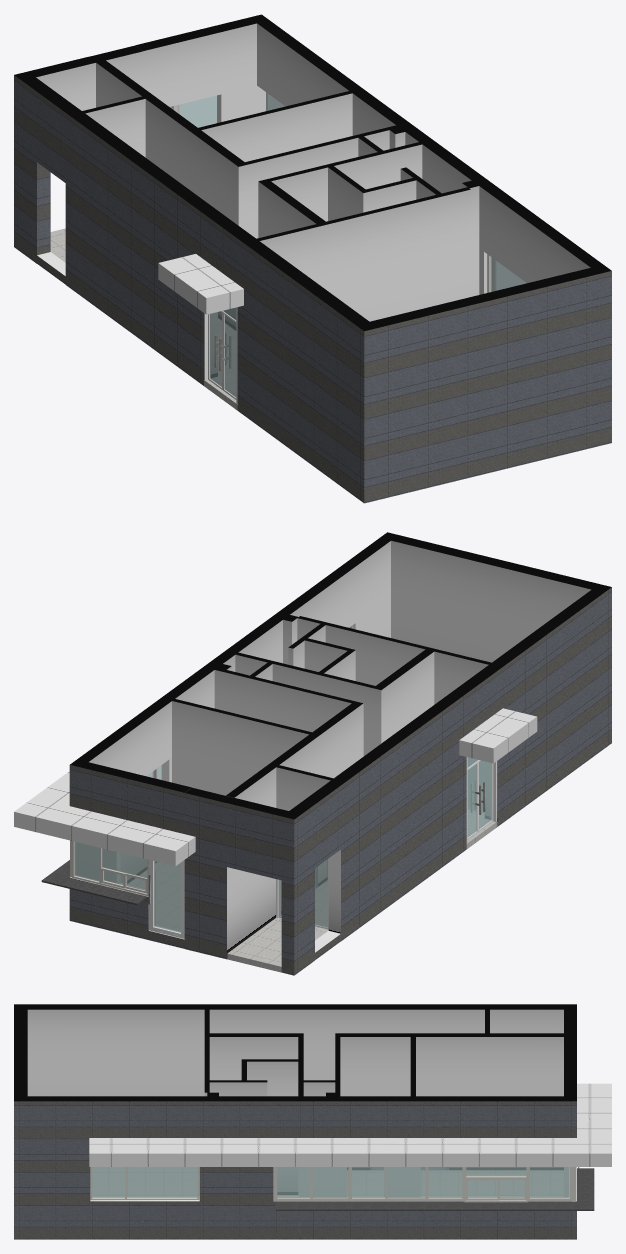
Rendered from Security-office-B-1F.glb.
3 renders of one model, top to bottom at view 1: azimuth 30°, elevation 25°; view 2: azimuth 150°, elevation 25°; view 3: azimuth 270°, elevation 25°, orthographic. The views are drawn at different scales.
Visible parts, largest first — view 1: Box005, Line001, Rectangle914, Line133, Box099; view 2: Box005, Line001, Rectangle914, Box099, Line133, Line1545; view 3: Box005, Line001, Line133, Box099, Line1545.
Boxes of the visible parts, <box> form: Box005: <box>14,14,611,503</box>; Line001: <box>158,254,243,314</box>; Rectangle914: <box>170,105,237,403</box>; Line133: <box>177,92,526,292</box>; Box099: <box>50,228,237,410</box>; Box005: <box>69,532,611,975</box>; Line001: <box>14,708,537,866</box>; Rectangle914: <box>148,757,496,938</box>; Box099: <box>128,810,497,972</box>; Line133: <box>70,625,352,896</box>; Line1545: <box>41,860,146,905</box>; Box005: <box>14,1004,576,1239</box>; Line001: <box>89,1083,611,1166</box>; Line133: <box>90,1167,576,1202</box>; Box099: <box>92,1167,563,1195</box>; Line1545: <box>276,1168,594,1210</box>.
Bounding box in the file's own units: 8.2 × 4.15 × 16.25.
Materials: 12 (10 with a texture image).
